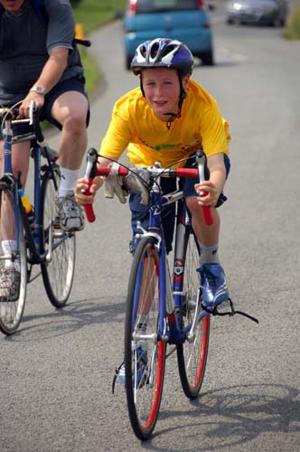person: (75, 38, 231, 391)
